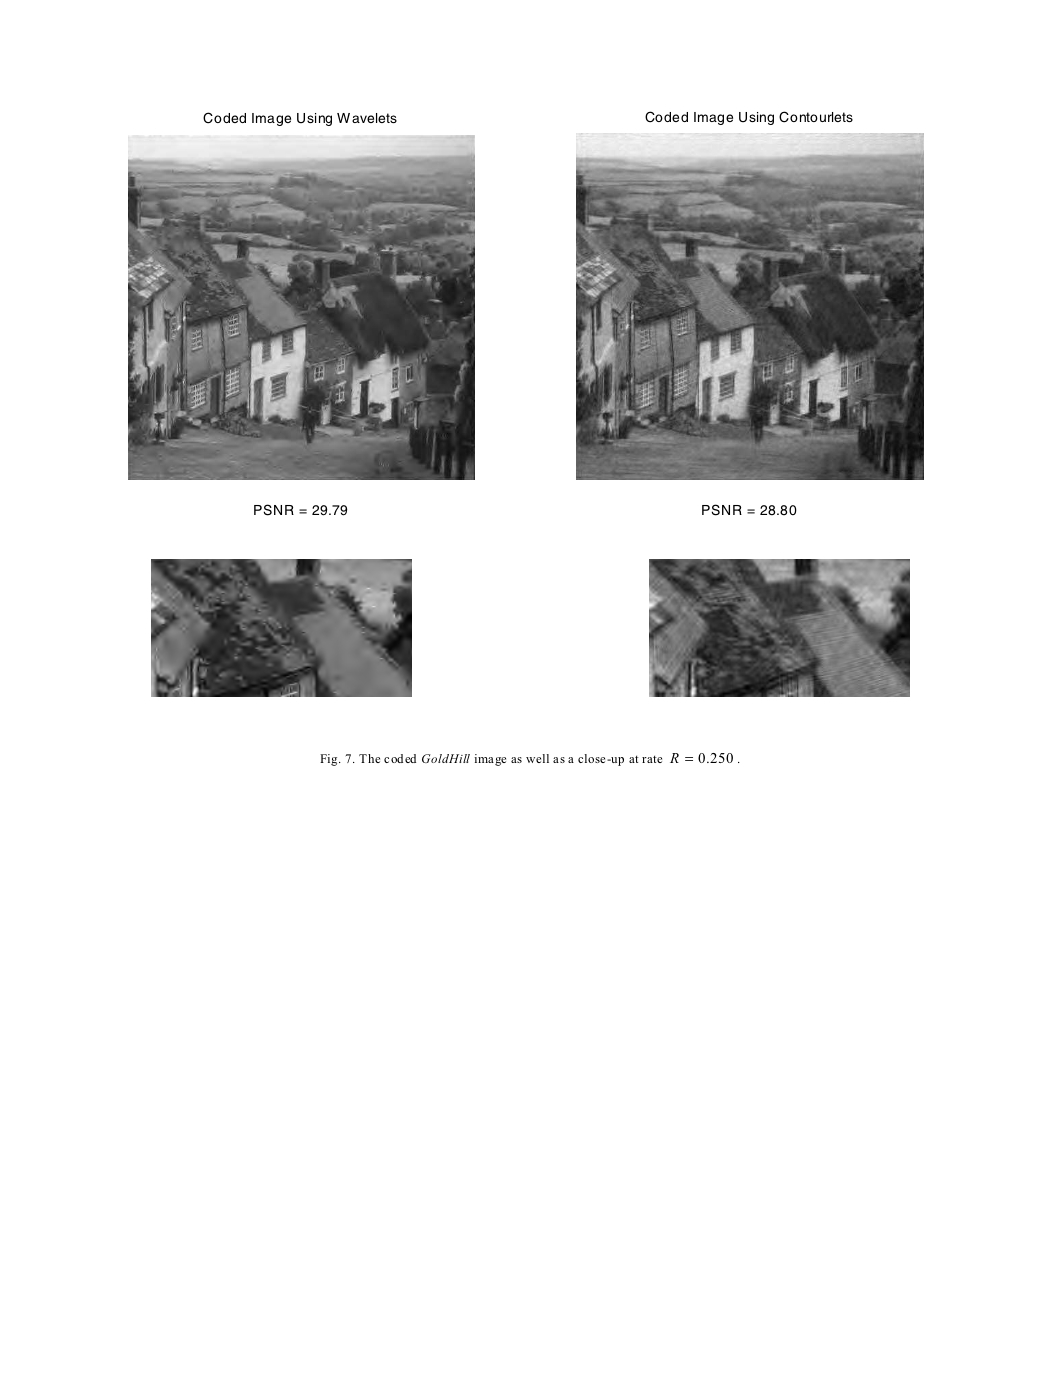figure: (576, 132, 923, 480), (128, 134, 474, 480), (150, 558, 411, 697), (649, 558, 909, 697)
